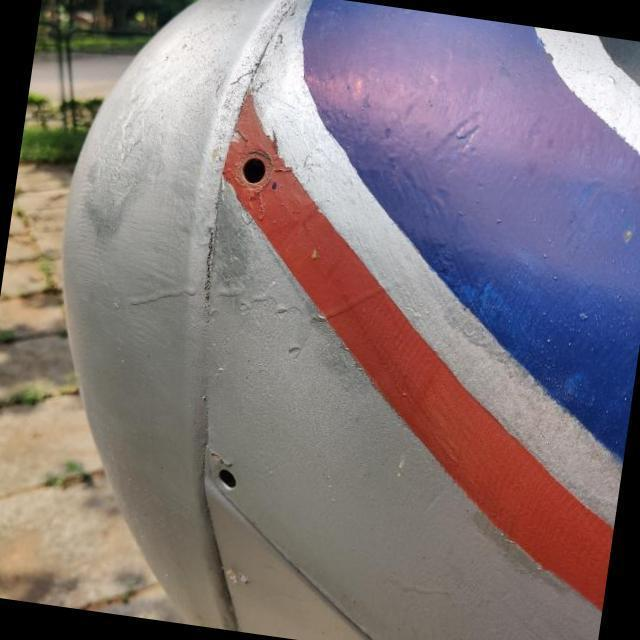Fastener Damage: (212, 130, 302, 216), (194, 448, 266, 520)
